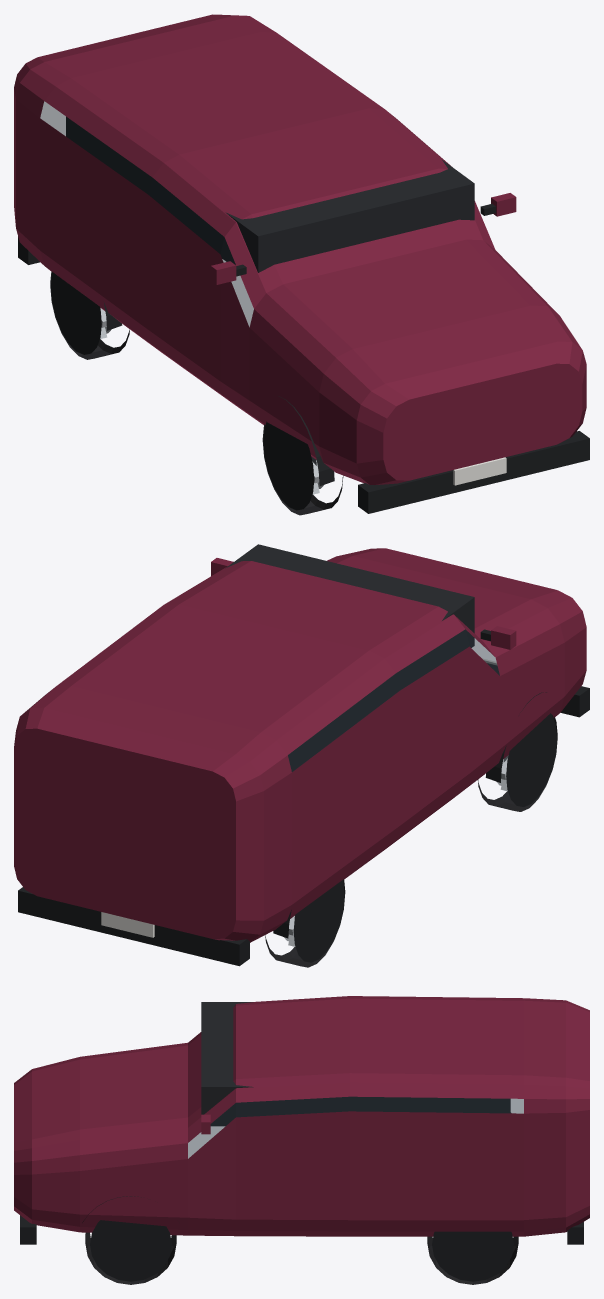
The model's file is suv.glb.
The picture shows the model from 3 angles, top to bottom: view 1: azimuth 30°, elevation 25°; view 2: azimuth 150°, elevation 25°; view 3: azimuth 270°, elevation 25°; orthographic projection. The views are drawn at different scales.
Visible parts, largest first — view 1: body, wheel_FL, wheel_RL; view 2: body, wheel_FL, wheel_RL; view 3: body, wheel_FR, wheel_RR.
Part boxes in pixels (box(x1,y1,x2,y2)): body: box(14, 14, 589, 513); wheel_FL: box(262, 421, 343, 515); wheel_RL: box(50, 271, 129, 359); body: box(14, 544, 589, 966); wheel_FL: box(477, 713, 557, 811); wheel_RL: box(265, 879, 345, 967); body: box(14, 996, 589, 1244); wheel_FR: box(85, 1220, 176, 1284); wheel_RR: box(427, 1231, 518, 1284).
Bounding box in the file's own units: 2.32 × 1.86 × 4.8.
